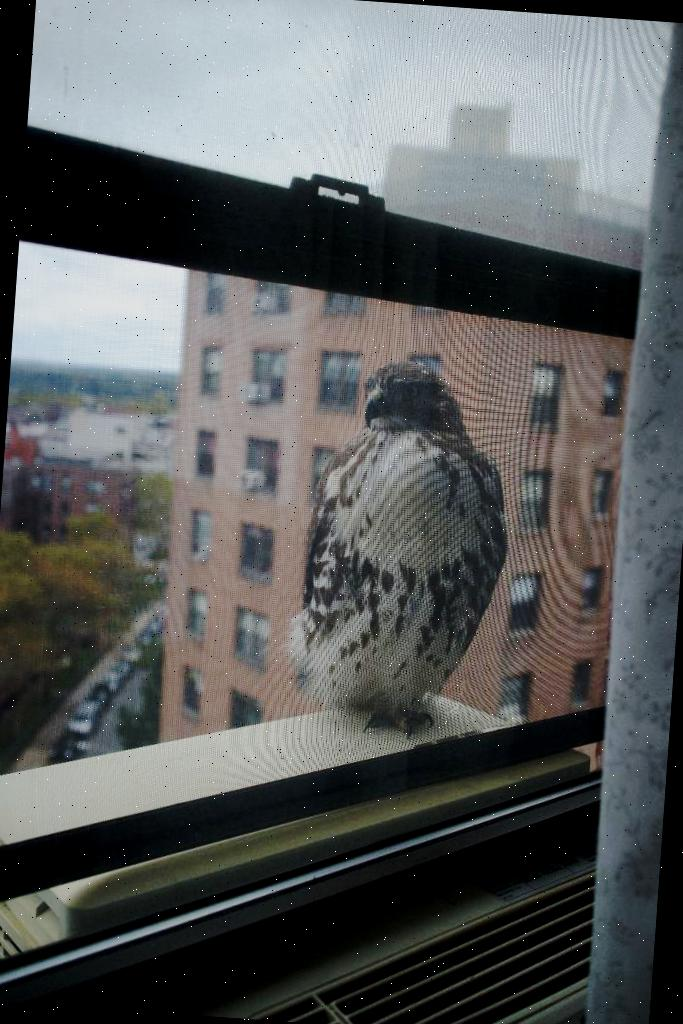Owl: (286, 356, 528, 750)
